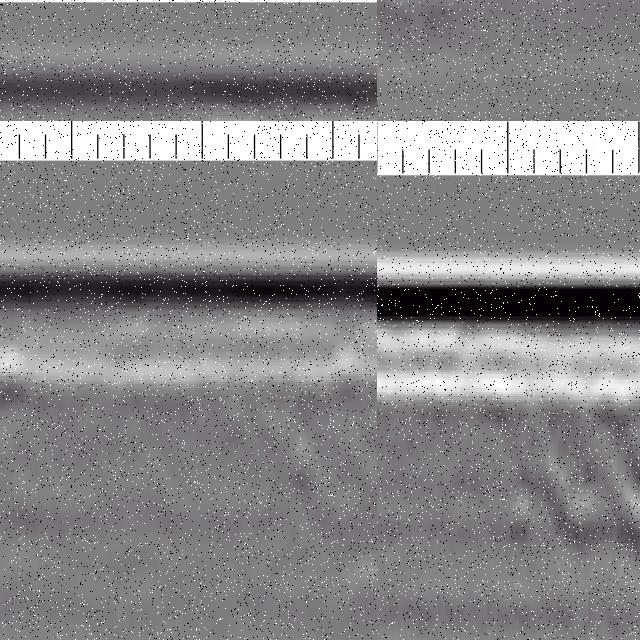loose: (492, 349, 640, 540), (378, 359, 462, 548), (378, 1, 488, 69)
